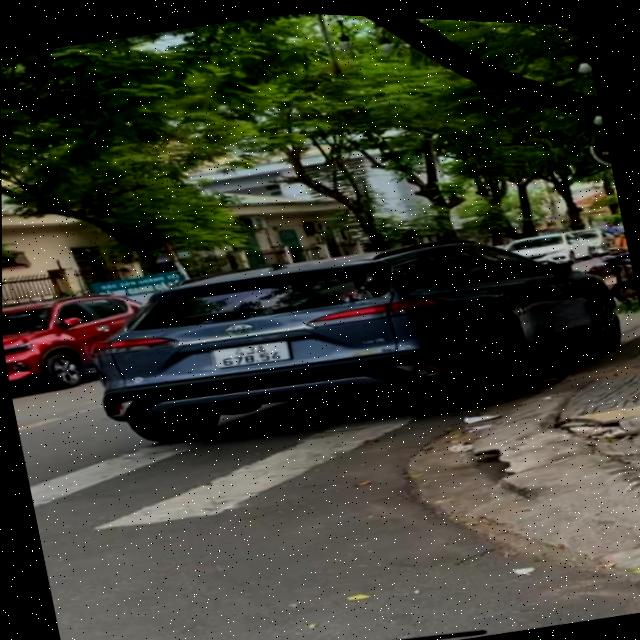car: (57, 184, 640, 497), (2, 280, 148, 399)
plate: (204, 328, 299, 383)
